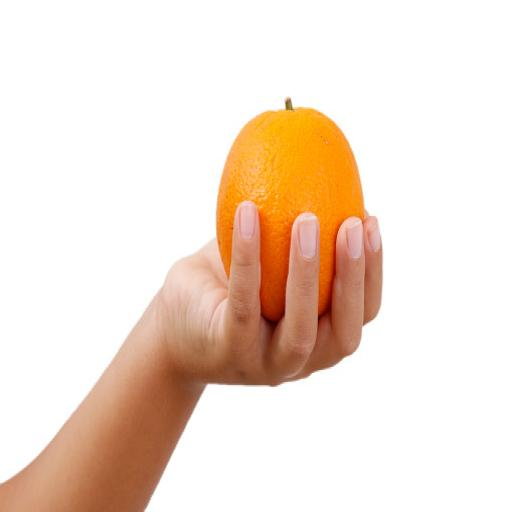orange: (217, 100, 364, 321)
